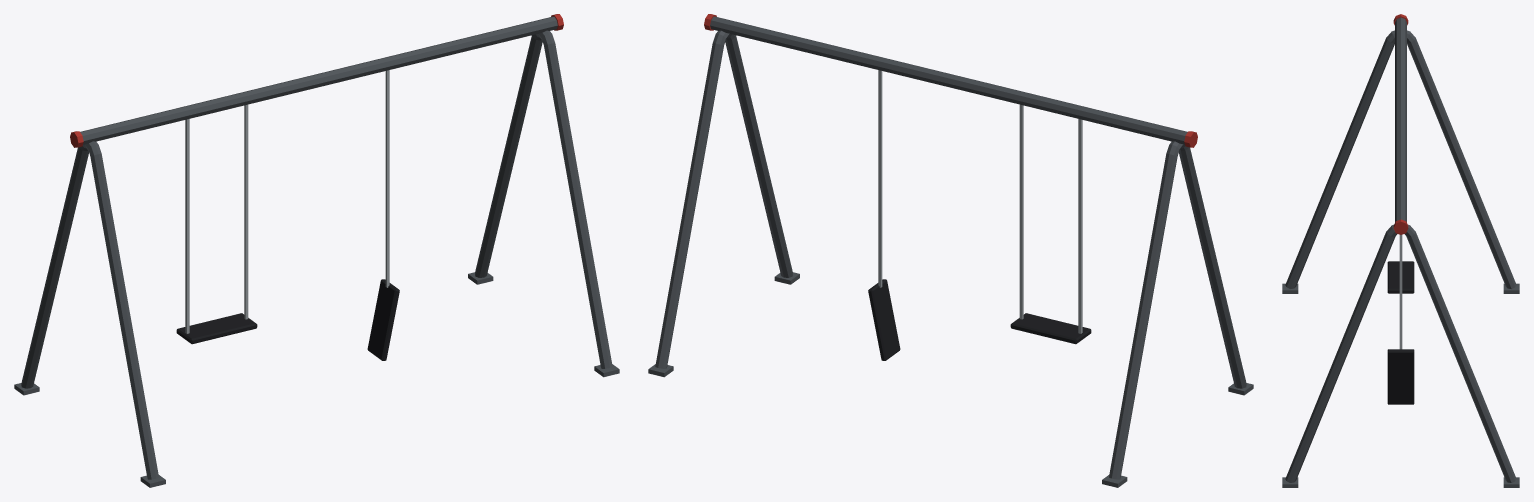
File: balancoire.glb
3 renders of one model, left to right at view 1: azimuth 30°, elevation 25°; view 2: azimuth 150°, elevation 25°; view 3: azimuth 270°, elevation 25°, orthographic. The views are drawn at different scales.
Visible parts, largest first — view 1: frame_r, frame_l, bar, chains, seat_broken, seat, chain_broken; view 2: frame_r, frame_l, bar, chains, seat_broken, seat, chain_broken; view 3: frame_r, frame_l, bar, seat_broken, seat, chain_broken, feet_r, caps, feet_l.
Part boxes in pixels (<box>): frame_r: <box>475,30,612,368</box>; frame_l: <box>21,141,158,479</box>; bar: <box>80,16,557,144</box>; chains: <box>185,104,248,333</box>; seat_broken: <box>367,279,399,360</box>; seat: <box>176,313,257,344</box>; chain_broken: <box>385,70,389,287</box>; frame_r: <box>655,30,792,368</box>; frame_l: <box>1109,141,1246,479</box>; bar: <box>710,16,1187,144</box>; chains: <box>1019,104,1082,333</box>; seat_broken: <box>868,279,900,360</box>; seat: <box>1010,313,1091,344</box>; chain_broken: <box>878,70,882,287</box>; frame_r: <box>1285,224,1516,482</box>; frame_l: <box>1285,30,1516,288</box>; bar: <box>1395,17,1406,222</box>; seat_broken: <box>1387,349,1414,404</box>; seat: <box>1387,261,1414,293</box>; chain_broken: <box>1399,235,1402,349</box>; feet_r: <box>1282,477,1519,487</box>; caps: <box>1393,14,1408,234</box>; feet_l: <box>1282,283,1519,293</box>.
Bounding box in the file's own units: 3.64 × 2.2 × 1.76.
Materials: 4 (4 with a texture image).
